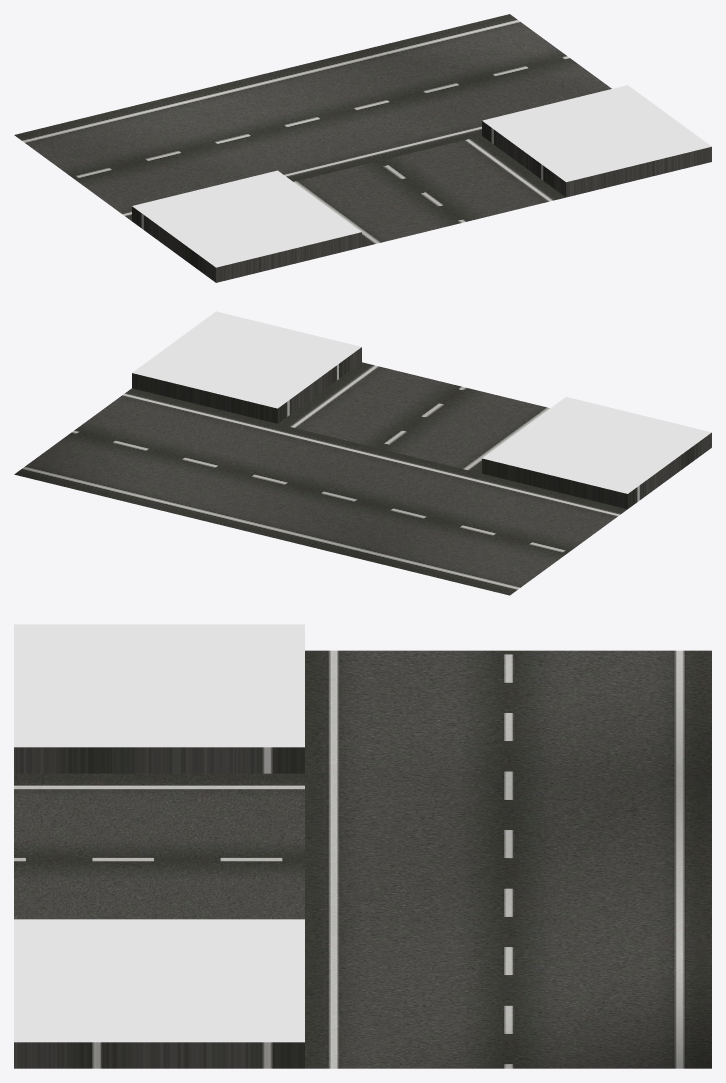
File: Tkryds.fbx
The picture shows the model from 3 angles, top to bottom: view 1: azimuth 30°, elevation 25°; view 2: azimuth 150°, elevation 25°; view 3: azimuth 270°, elevation 25°; orthographic projection. The views are drawn at different scales.
Visible parts, largest first — view 1: Plane; view 2: Plane; view 3: Plane.
Part boxes in pixels (bbox=[...]): Plane: bbox=[14, 14, 711, 282]; Plane: bbox=[14, 311, 711, 595]; Plane: bbox=[14, 624, 711, 1068].
Bounding box in the file's own units: 1700 × 50 × 1200.
